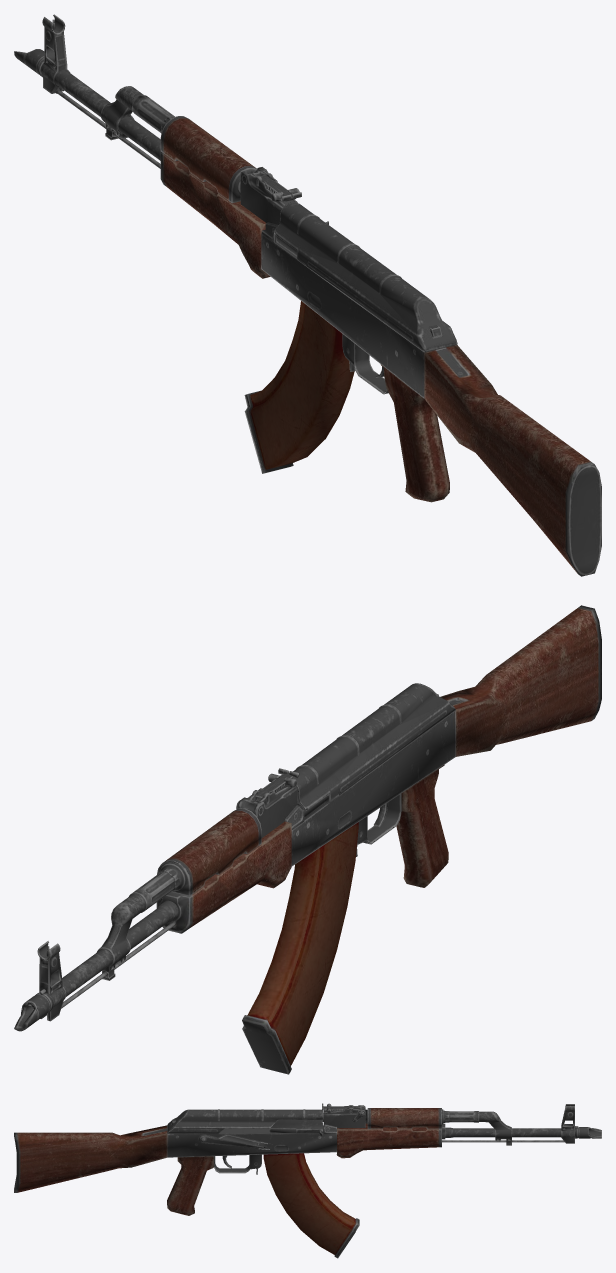
File: rifle_ak.glb
The picture shows the model from 3 angles, top to bottom: view 1: azimuth 30°, elevation 25°; view 2: azimuth 150°, elevation 25°; view 3: azimuth 270°, elevation 25°; orthographic projection. The views are drawn at different scales.
Parts seen in each view (by area): view 1: weapon; view 2: weapon; view 3: weapon.
Part boxes in pixels (<box>): weapon: <box>14,14,601,576</box>; weapon: <box>14,605,601,1074</box>; weapon: <box>14,1103,601,1258</box>.
Bounding box in the file's own units: 0.0489 × 0.2478 × 0.88.
1 material, 1 textured.
